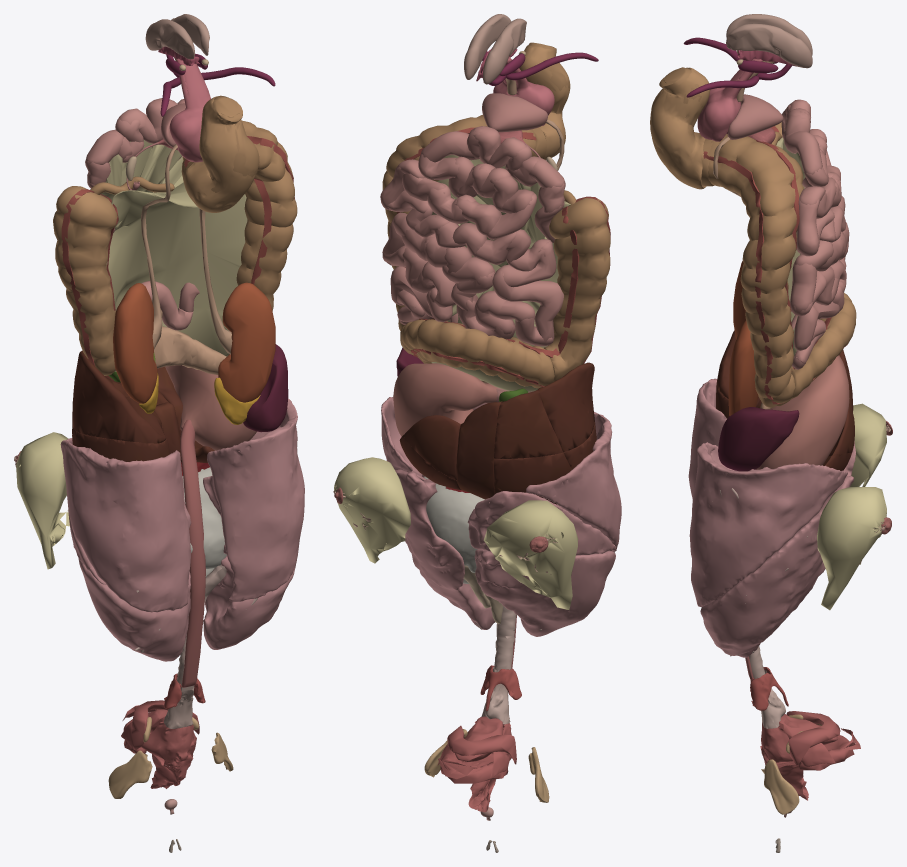
File: organs.glb
3 renders of one model, left to right at view 1: azimuth 30°, elevation 25°; view 2: azimuth 150°, elevation 25°; view 3: azimuth 270°, elevation 25°, orthographic.
Visible parts, largest first — view 1: MOD_lung_inferior_lobe_r, MOD_lung_inferior_lobe_l, FJ3398, FJ2566, FJ2567, FJ3145, MOD_sigmoid_colon, FJ2822, MOD_lung_superior_lobe_r, HRA_mammary_fat_r, FJ3147, FJ2563 (+29 smaller); view 2: FJ2566, HRA_mammary_fat_r, FJ2572, MOD_lung_superior_lobe_r, HRA_mammary_fat_l, MOD_lung_superior_lobe_l, MOD_lung_inferior_lobe_r, FJ2564, FJ2821, FJ2822, FJ2820, MOD_lung_middle_lobe_r (+50 smaller); view 3: MOD_lung_inferior_lobe_l, FJ2567, MOD_lung_superior_lobe_l, HRA_mammary_fat_l, FJ2564, MOD_sigmoid_colon, FJ2561, FJ2572, MOD_labium_majus_l, HRA_mammary_fat_r, FJ3145, MOD_lung_inferior_lobe_r (+23 smaller).
Boxes of the visible parts, x1,y1,x2,y2 form: MOD_lung_inferior_lobe_r: (60,438,191,612); MOD_lung_inferior_lobe_l: (203,398,304,601); FJ3398: (106,182,247,371); FJ2566: (53,186,117,375); FJ2567: (181,120,297,310); FJ3145: (218,282,275,402); MOD_sigmoid_colon: (184,95,259,212); FJ2822: (72,350,166,443); MOD_lung_superior_lobe_r: (78,558,190,661); HRA_mammary_fat_r: (16,432,69,569); FJ3147: (113,283,157,403); FJ2563: (180,419,205,687); FJ2566: (544,198,610,381); HRA_mammary_fat_r: (483,500,578,609); FJ2572: (400,319,554,388); MOD_lung_superior_lobe_r: (474,549,615,636); HRA_mammary_fat_l: (334,457,410,563); MOD_lung_superior_lobe_l: (395,469,494,629); MOD_lung_inferior_lobe_r: (526,412,621,552); FJ2564: (393,363,497,436); FJ2821: (494,390,563,458); FJ2822: (537,362,594,452); FJ2820: (456,401,502,499); MOD_lung_middle_lobe_r: (467,491,616,555); MOD_lung_inferior_lobe_l: (689,442,847,606); FJ2567: (708,134,803,407); MOD_lung_superior_lobe_l: (700,476,853,657); HRA_mammary_fat_l: (817,487,886,610); FJ2564: (756,355,849,469); MOD_sigmoid_colon: (650,67,710,189); FJ2561: (718,407,799,471); FJ2572: (776,292,856,406); MOD_labium_majus_l: (726,23,812,68); HRA_mammary_fat_r: (850,403,886,486); FJ3145: (728,320,758,415); MOD_lung_inferior_lobe_r: (688,378,726,499).
Bounding box in the file's own units: 243 × 813 × 215.
